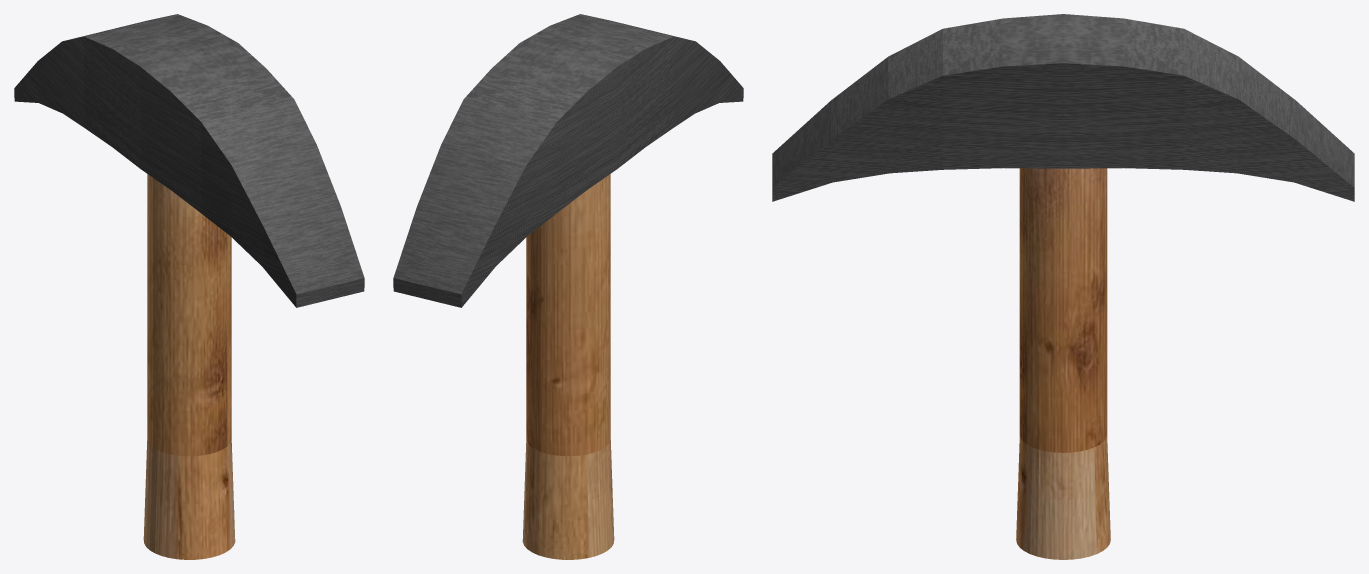
The model's file is removalTool(other.fbx.
3 views of the same model, side by side, from view 1: azimuth 30°, elevation 25°; view 2: azimuth 150°, elevation 25°; view 3: azimuth 270°, elevation 25° (orthographic). The views are drawn at different scales.
Visible parts, largest first — view 1: 立方體, 圓柱體.001; view 2: 立方體, 圓柱體.001; view 3: 立方體, 圓柱體.001.
Part boxes in pixels (x1=…): 立方體: x1=14, y1=14, x2=364, y2=307; 圓柱體.001: x1=143, y1=174, x2=235, y2=559; 立方體: x1=393, y1=14, x2=743, y2=307; 圓柱體.001: x1=522, y1=174, x2=614, y2=559; 立方體: x1=772, y1=14, x2=1354, y2=201; 圓柱體.001: x1=1016, y1=168, x2=1110, y2=559.
Size of the model in its own units: 40 by 190 by 200.
